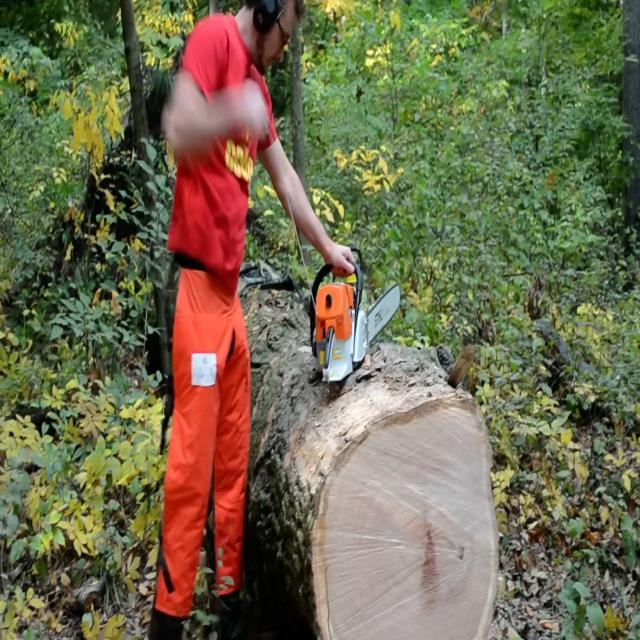Chainsaw: (304, 235, 408, 389)
